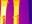Hotspot: (0, 0, 8, 23), (13, 0, 20, 23)
